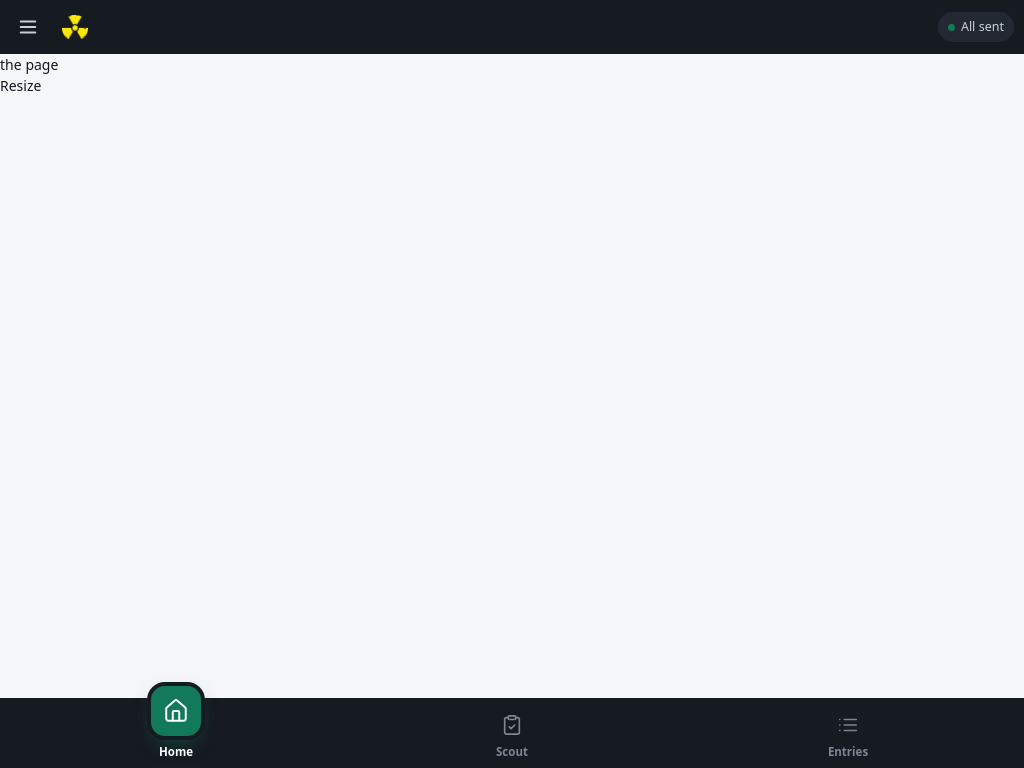
Test case: the phone shell (redesign R.7) › opens the drawer with every destination and the account, and closes it on a choice
Click the button named "Open the menu" at (28,27), box 4,3 -> 52,51
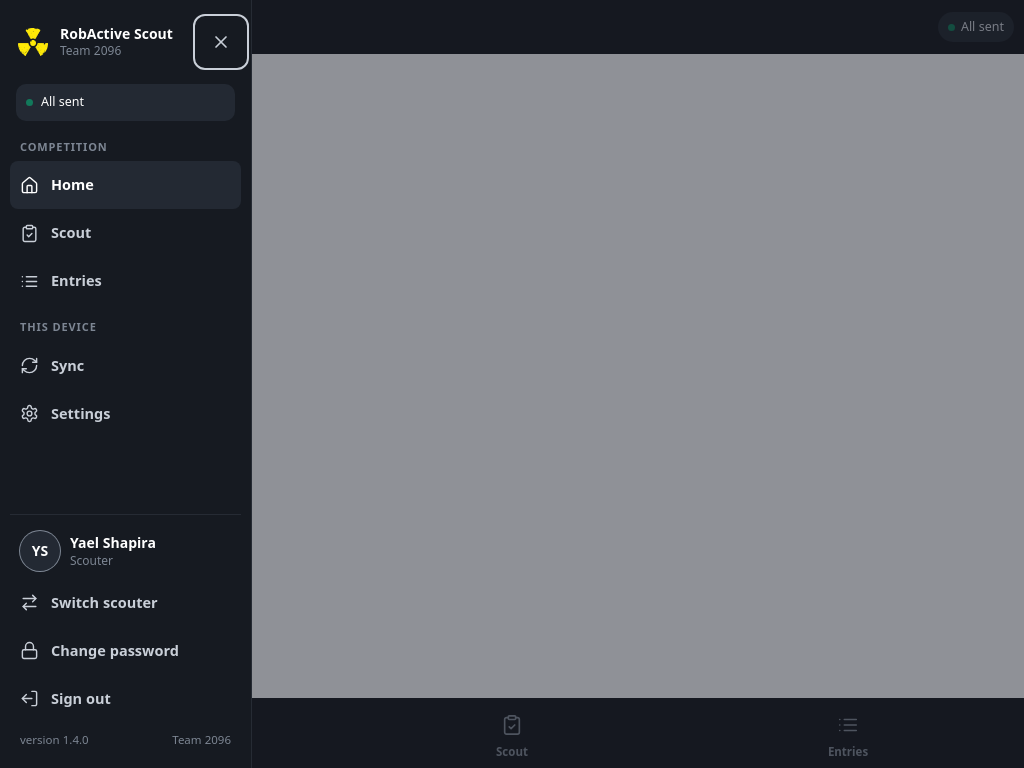
Now the text "Yael Shapira" is shown, box 70,533 -> 156,553
Now the button "Sign out" is shown, box 10,675 -> 241,723
Click the link "Entries" at (61,281), box 20,271 -> 102,291
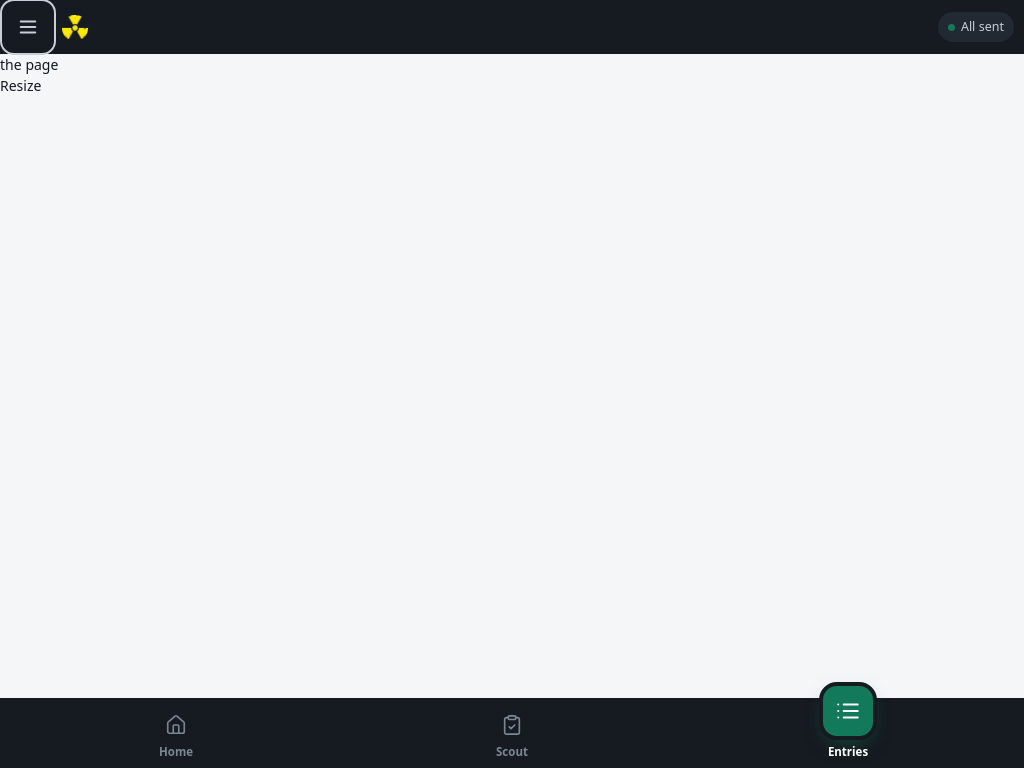
Now the button "Menu" is gone
